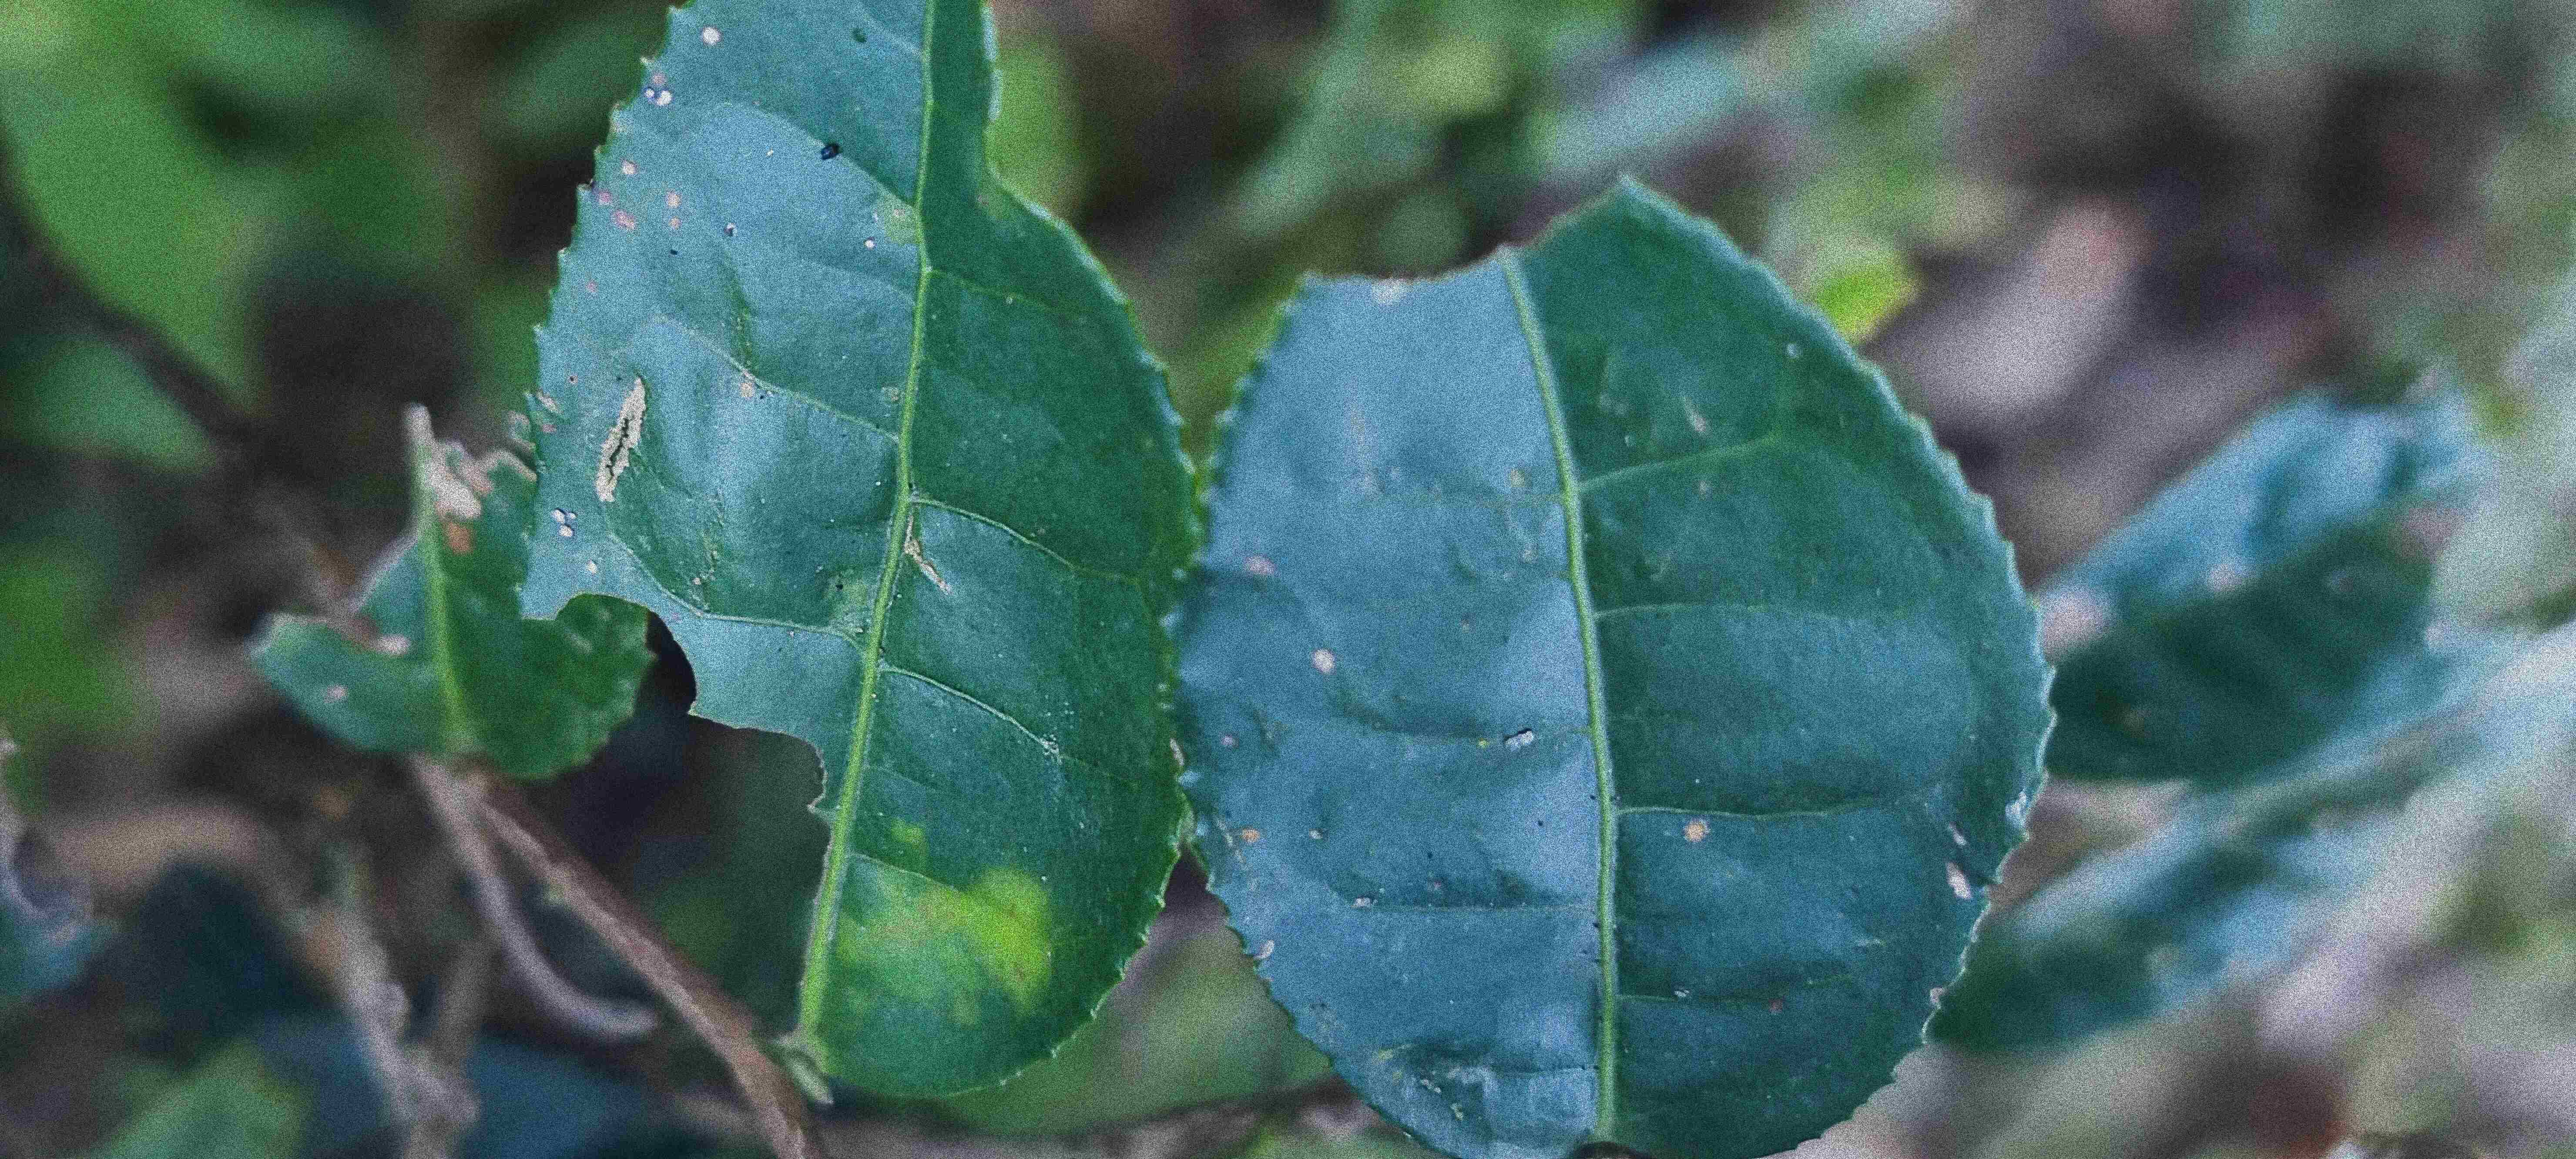chihuo_high: (516, 5, 1199, 1108), (241, 401, 665, 786)
chihuo_low: (1175, 163, 2057, 1156)
